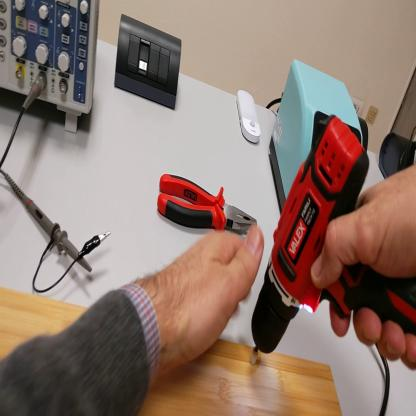electric screwdriver: (251, 114, 416, 370)
hand: (312, 164, 416, 365), (159, 226, 267, 368)
oscilloscope: (3, 3, 102, 133)
oscilloscope probe tip: (6, 172, 94, 275)
pliers: (156, 178, 260, 236)
socket: (380, 133, 416, 180), (360, 121, 373, 148)
welder station: (268, 68, 365, 221)
working area: (2, 288, 343, 415)
